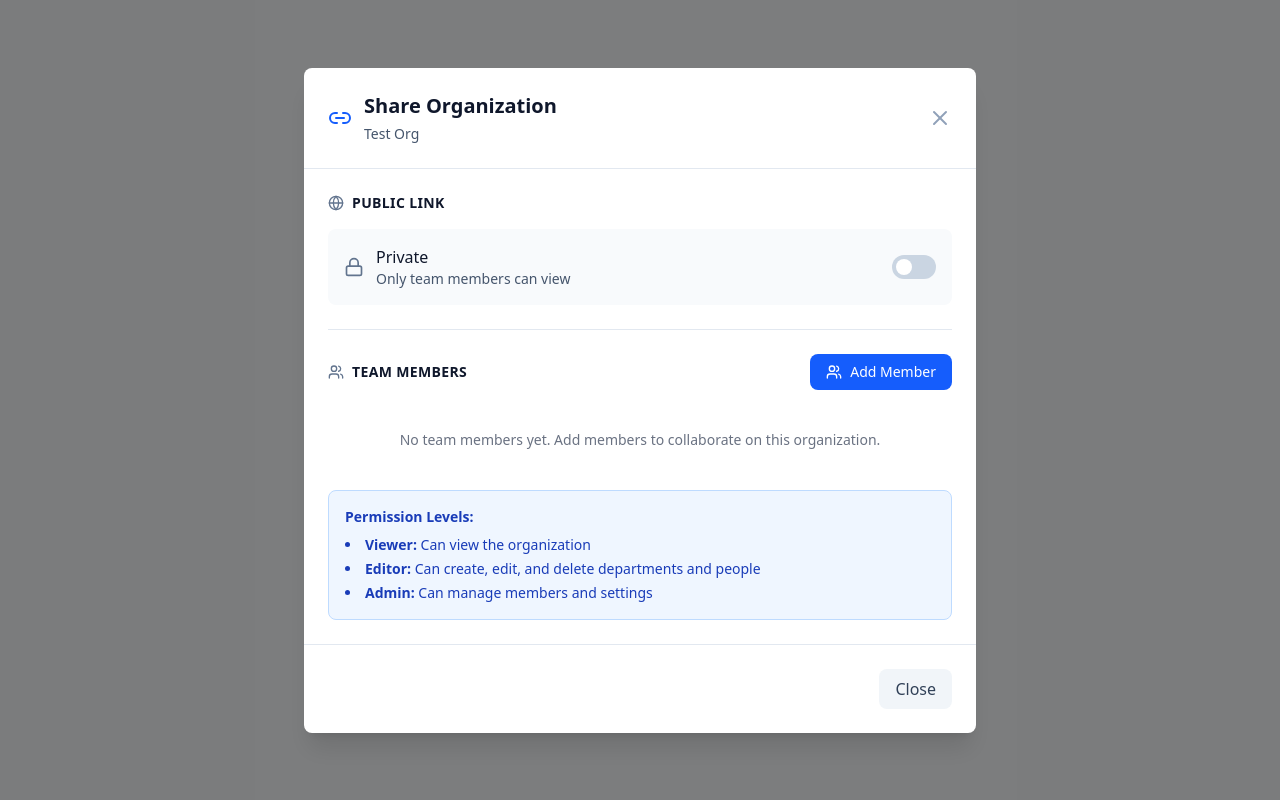
Test: ShareModal › handles camelCase isPublic from API correctly on toggle
The width and height of the screenshot is (1280, 800).
Expected: the text "Private" is shown, [376,246,428,268]
Click the button named "Toggle public access". click: (914,266)
box: [892,254,936,278]
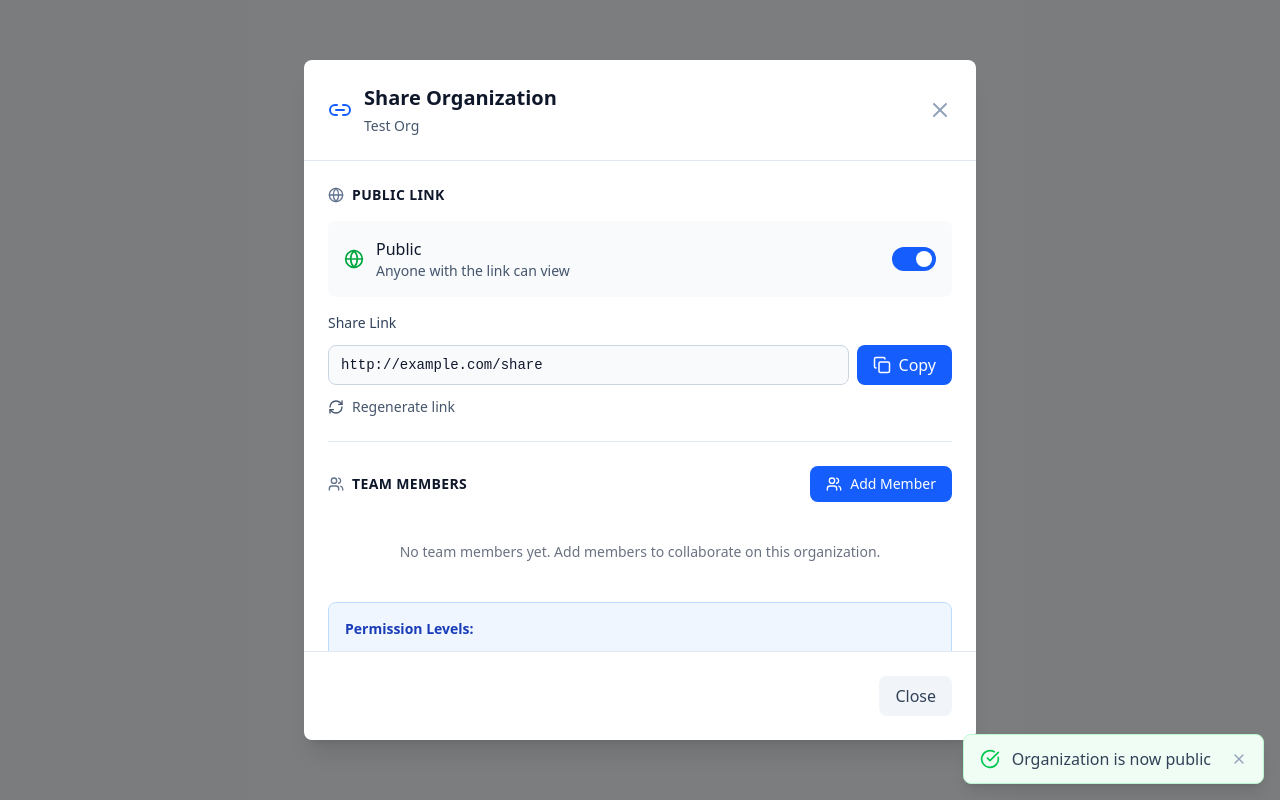
Expected: the text "Public" is shown, [376,238,421,260]
Expected: the text "Organization is now public" is shown, [1012,747,1211,771]
